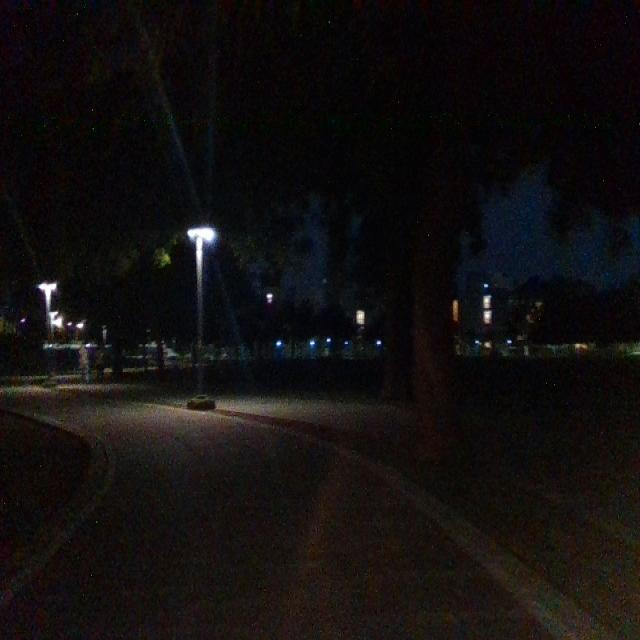lane: (2, 408, 556, 640)
